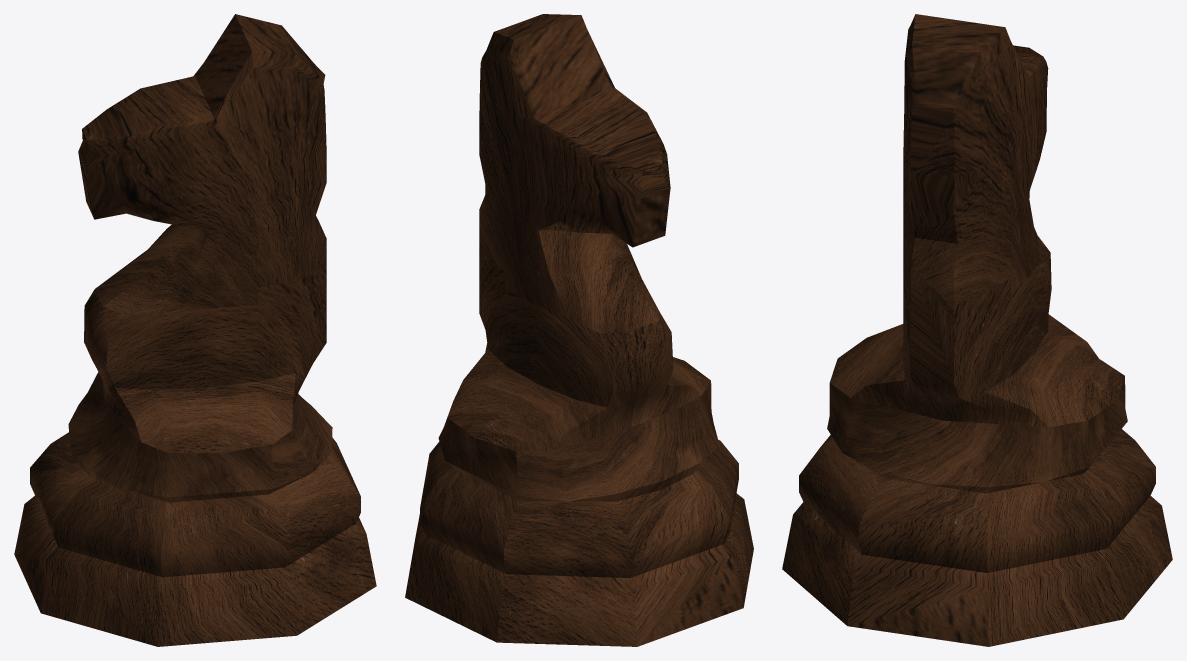
The model's file is knight_black.fbx.
3 renders of one model, left to right at view 1: azimuth 30°, elevation 25°; view 2: azimuth 150°, elevation 25°; view 3: azimuth 270°, elevation 25°, orthographic. The views are drawn at different scales.
Visible parts, largest first — view 1: BlackKnight.001; view 2: BlackKnight.001; view 3: BlackKnight.001.
Part boxes in pixels (x1,y1,x2,y2): BlackKnight.001: (14,14,376,646); BlackKnight.001: (405,14,753,646); BlackKnight.001: (782,14,1172,646).
Bounding box in the file's own units: 2.96 × 4.72 × 2.96.
1 material, 1 textured.
